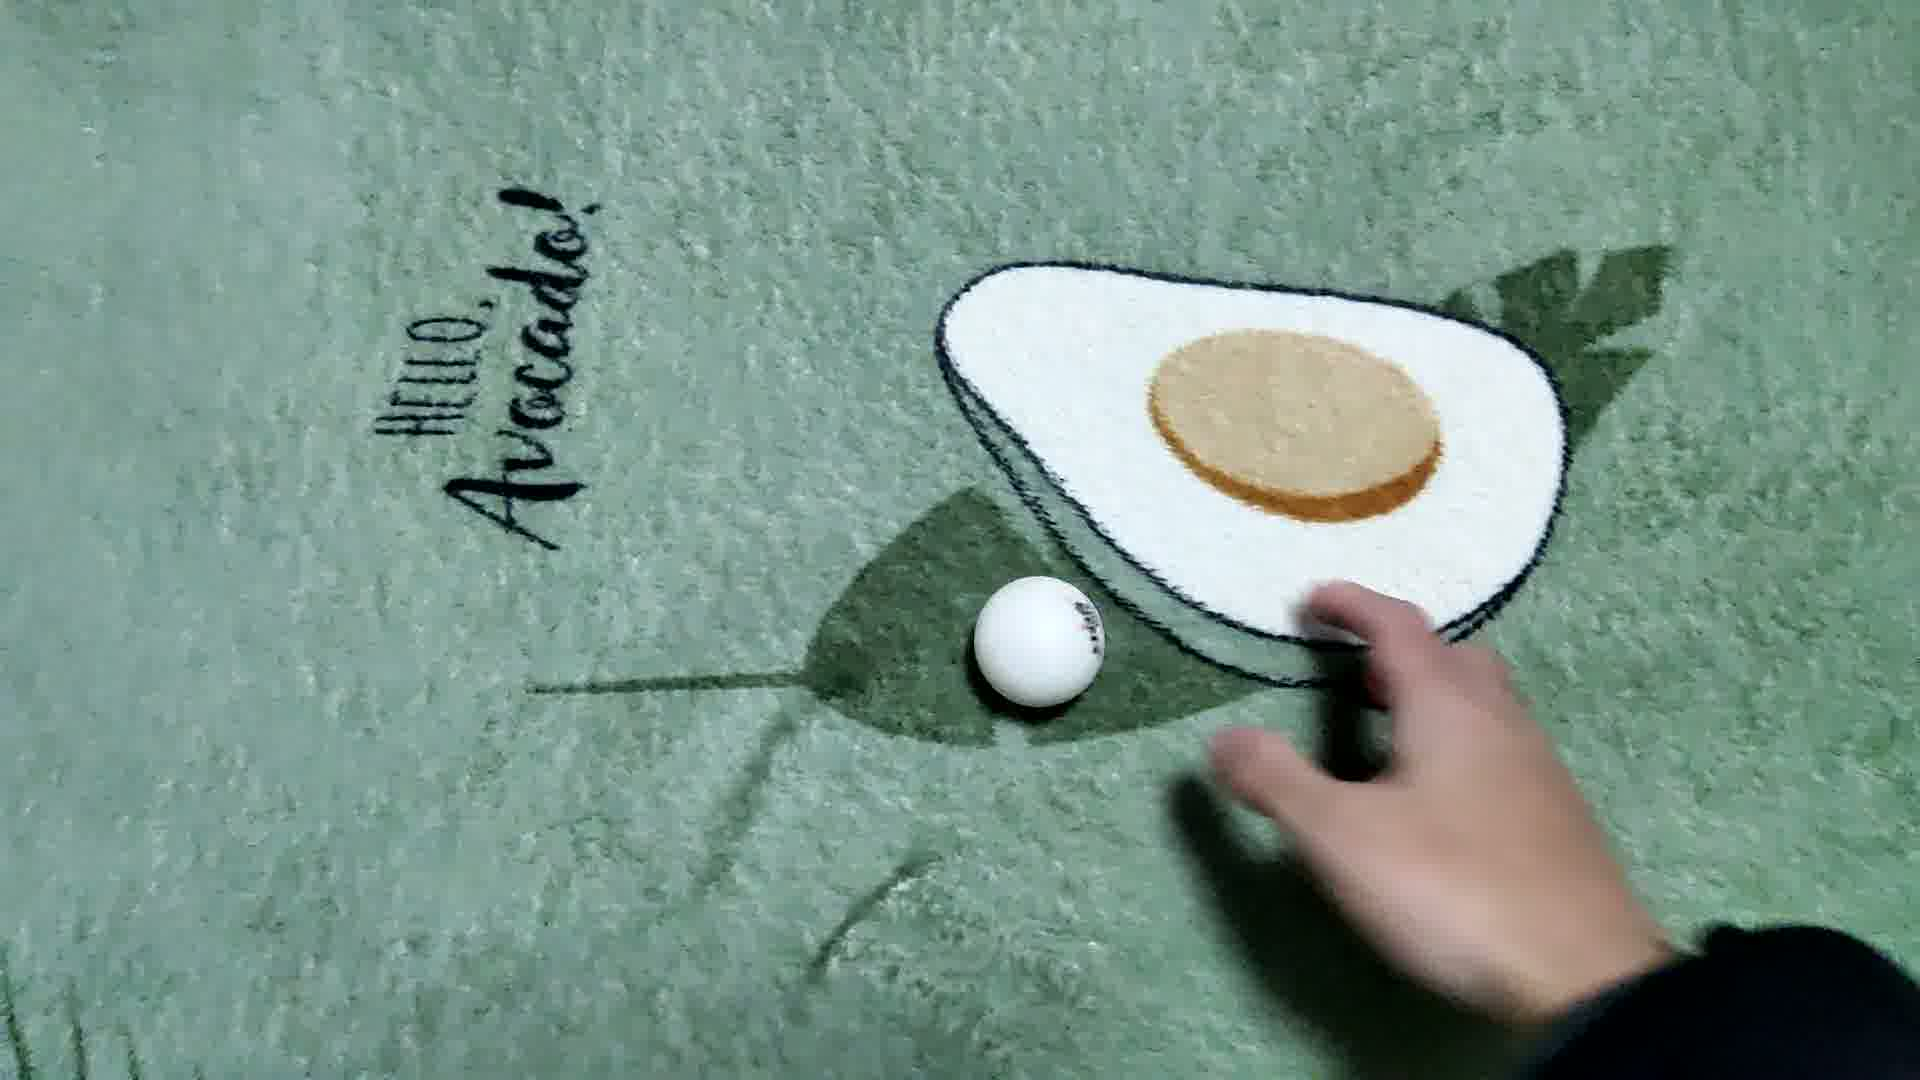Ball: (975, 582, 1096, 703)
